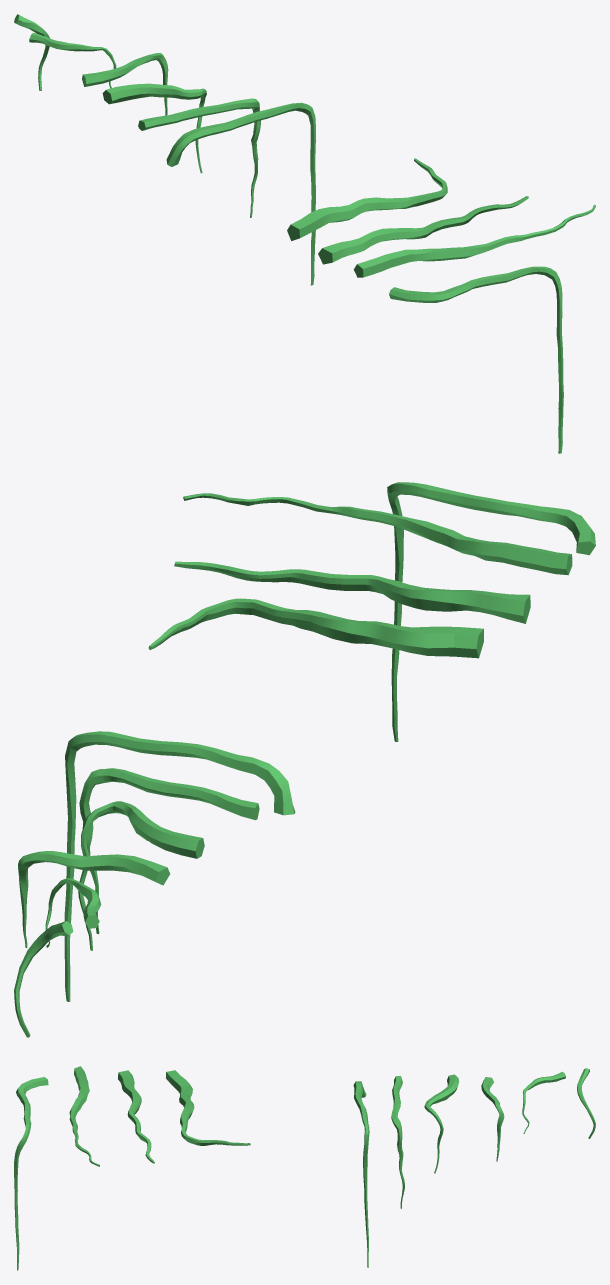
File: roots_solos_A.fbx
3 views of the same model, one above another, from view 1: azimuth 30°, elevation 25°; view 2: azimuth 150°, elevation 25°; view 3: azimuth 270°, elevation 25° (orthographic). The views are drawn at different scales.
Parts seen in each view (by area): view 1: roots_solo_A_A, roots_solo_A_F, roots_solo_A_D, roots_solo_A_B, roots_solo_A_E, roots_solo_A_C, roots_solo_A_G, roots_solo_A_H, roots_solo_A_I; view 2: roots_solo_A_F, roots_solo_A_E, roots_solo_A_B, roots_solo_A_D, roots_solo_A_A, roots_solo_A_C, roots_solo_A_H, roots_solo_A_G, roots_solo_A_K, roots_solo_A_I; view 3: roots_solo_A_A, roots_solo_A_F, roots_solo_A_B, roots_solo_A_E, roots_solo_A_D, roots_solo_A_C, roots_solo_A_G, roots_solo_A_H, roots_solo_A_I, roots_solo_A_K.
Boxes of the visible parts, x1=… form: roots_solo_A_A: x1=389, y1=266, x2=563, y2=453; roots_solo_A_F: x1=287, y1=158, x2=447, y2=240; roots_solo_A_D: x1=353, y1=204, x2=595, y2=277; roots_solo_A_B: x1=166, y1=102, x2=315, y2=285; roots_solo_A_E: x1=318, y1=196, x2=528, y2=264; roots_solo_A_C: x1=138, y1=98, x2=260, y2=217; roots_solo_A_G: x1=102, y1=83, x2=206, y2=173; roots_solo_A_H: x1=82, y1=53, x2=168, y2=115; roots_solo_A_I: x1=29, y1=33, x2=116, y2=88; roots_solo_A_F: x1=148, y1=598, x2=483, y2=658; roots_solo_A_E: x1=174, y1=561, x2=530, y2=623; roots_solo_A_B: x1=64, y1=731, x2=295, y2=1001; roots_solo_A_D: x1=183, y1=493, x2=572, y2=575; roots_solo_A_A: x1=387, y1=482, x2=595, y2=741; roots_solo_A_C: x1=78, y1=768, x2=259, y2=950; roots_solo_A_H: x1=18, y1=851, x2=169, y2=947; roots_solo_A_G: x1=81, y1=801, x2=204, y2=934; roots_solo_A_K: x1=14, y1=921, x2=73, y2=1037; roots_solo_A_I: x1=45, y1=877, x2=101, y2=947; roots_solo_A_A: x1=14, y1=1077, x2=48, y2=1270; roots_solo_A_F: x1=166, y1=1070, x2=250, y2=1145; roots_solo_A_B: x1=353, y1=1081, x2=369, y2=1267; roots_solo_A_E: x1=118, y1=1070, x2=154, y2=1163; roots_solo_A_D: x1=69, y1=1066, x2=99, y2=1166; roots_solo_A_C: x1=391, y1=1076, x2=404, y2=1208; roots_solo_A_G: x1=424, y1=1074, x2=459, y2=1173; roots_solo_A_H: x1=481, y1=1077, x2=504, y2=1161; roots_solo_A_I: x1=522, y1=1071, x2=565, y2=1133; roots_solo_A_K: x1=577, y1=1068, x2=595, y2=1138.
Size of the model in its own units: 378 by 282 by 1007.
